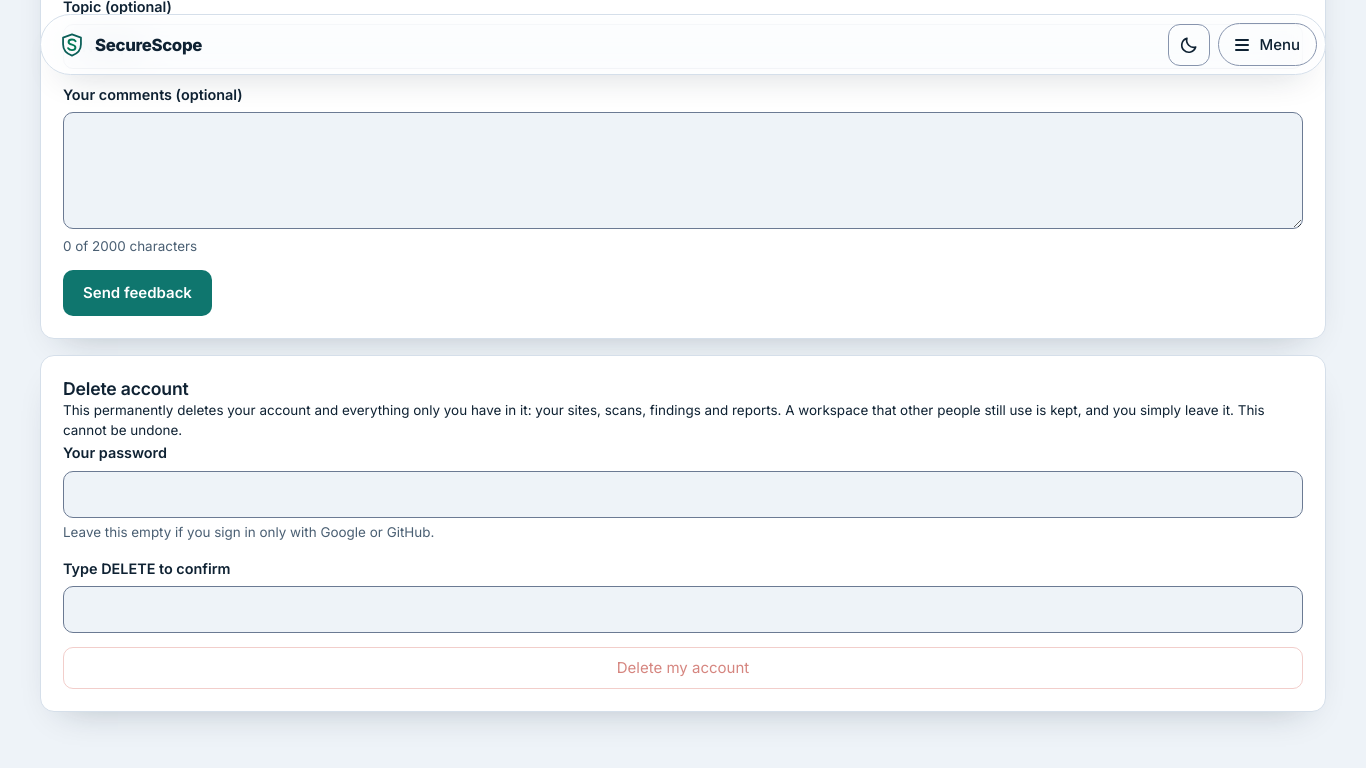
the Account page › shows why deletion is refused, for example when other people still depend on the workspace
(page scrolled)
In the field labelled "Type DELETE to confirm": (683, 610) x1=63 y1=586 x2=1303 y2=633, type "DELETE"
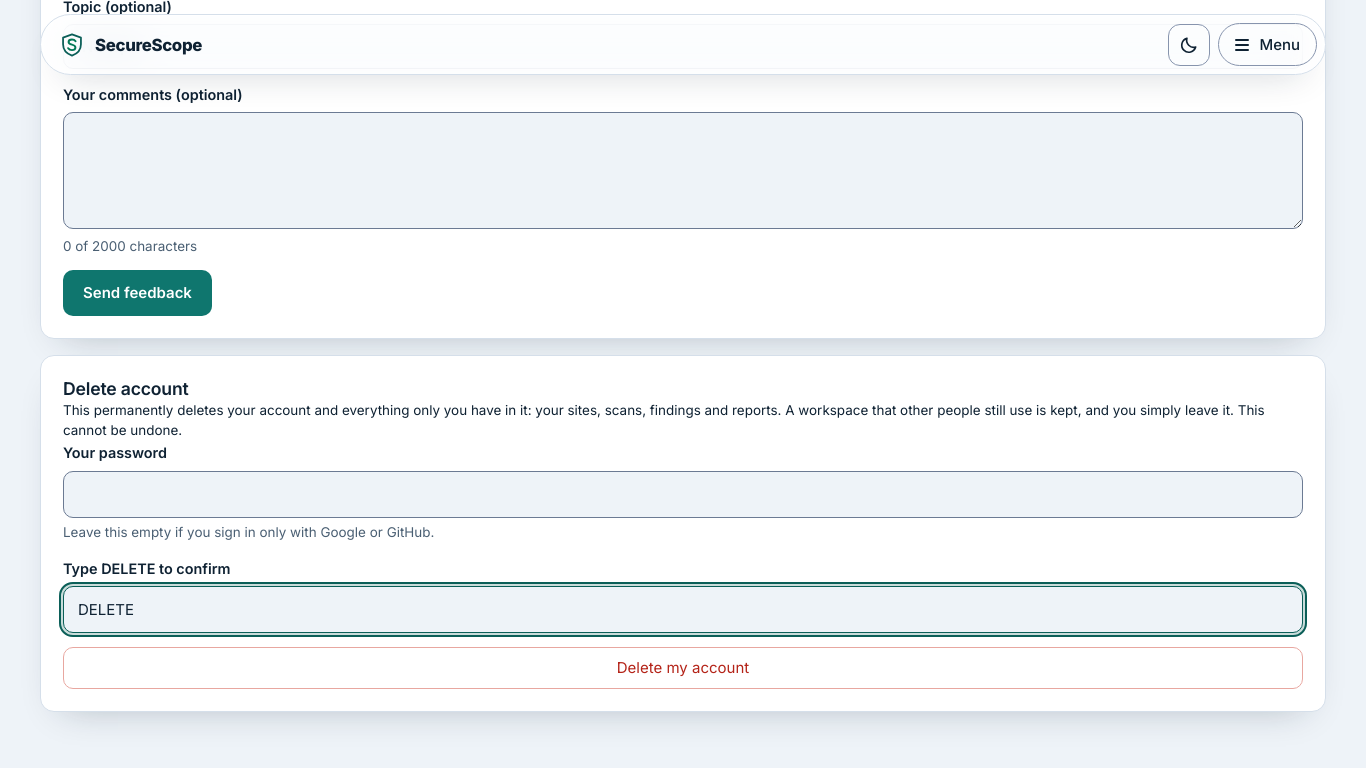
Click the button "Delete my account": (683, 668) x1=63 y1=647 x2=1303 y2=689
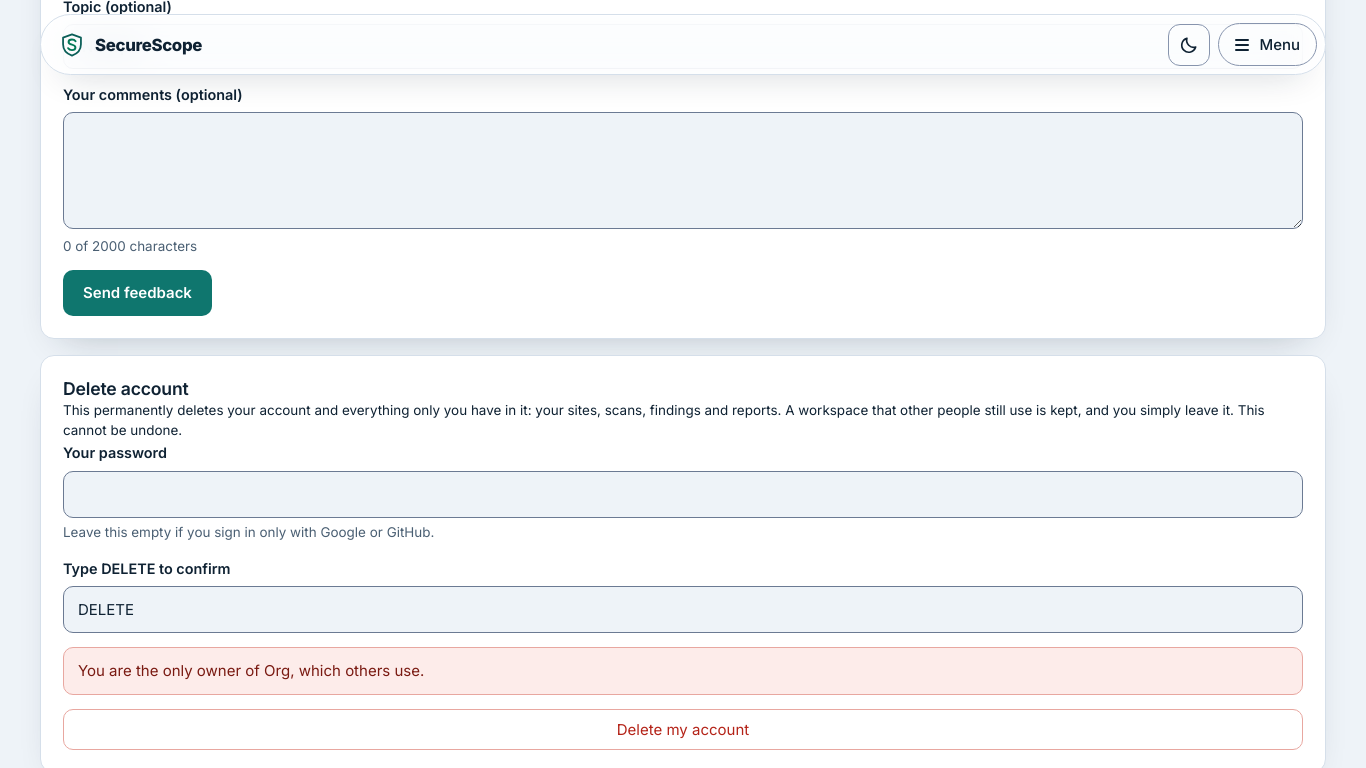
Now the message shows "only owner", box x1=78 y1=661 x2=424 y2=680
